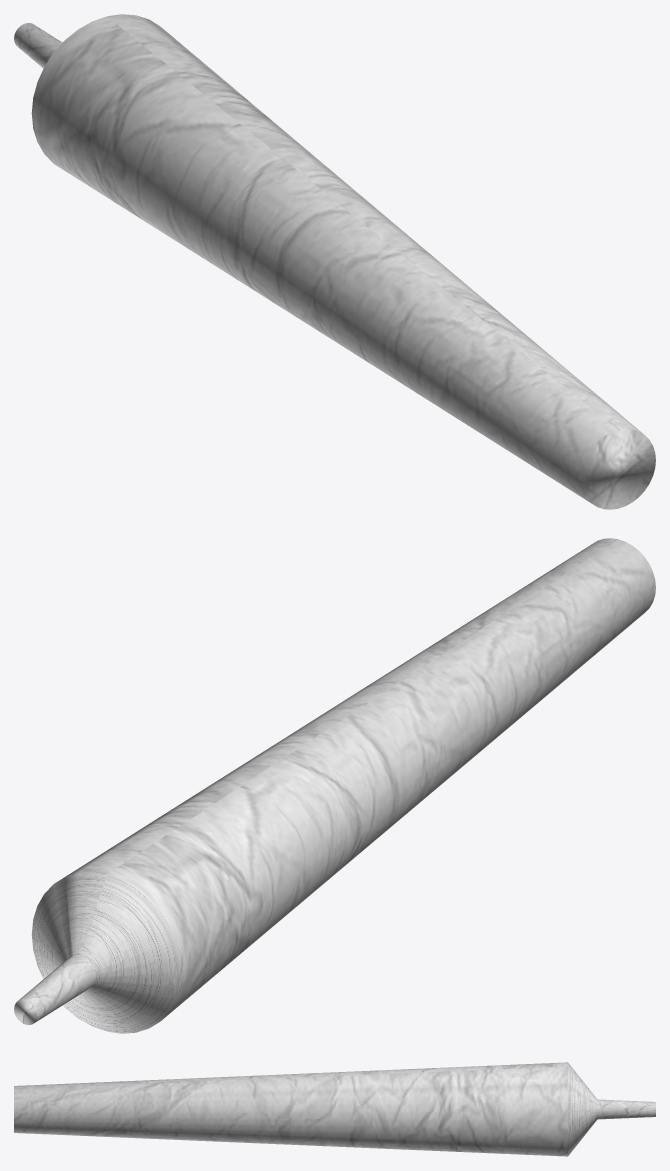
File: joint.fbx
The picture shows the model from 3 angles, top to bottom: view 1: azimuth 30°, elevation 25°; view 2: azimuth 150°, elevation 25°; view 3: azimuth 270°, elevation 25°; orthographic projection. The views are drawn at different scales.
Visible parts, largest first — view 1: Cylinder; view 2: Cylinder; view 3: Cylinder.
Part boxes in pixels (x1,y1,x2,y2): Cylinder: (14, 14, 655, 509); Cylinder: (14, 538, 655, 1033); Cylinder: (14, 1062, 655, 1156).
Size of the model in its own units: 6.67 by 0.9806 by 0.9806.
